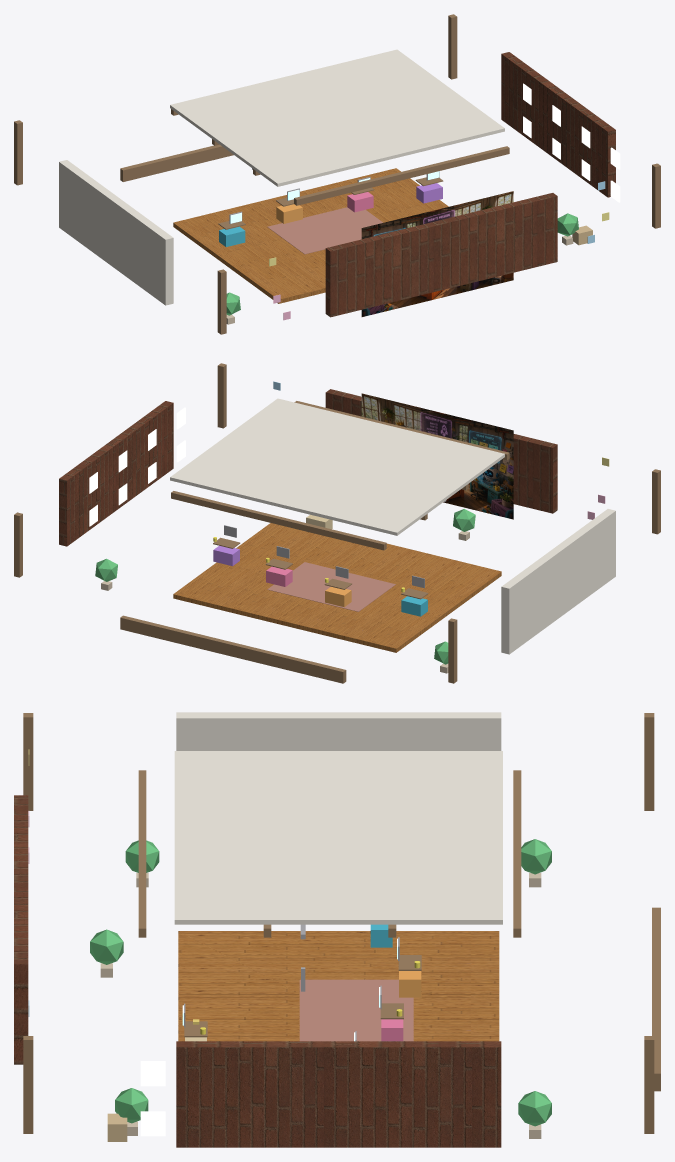
File: loft_room.glb
The picture shows the model from 3 angles, top to bottom: view 1: azimuth 30°, elevation 25°; view 2: azimuth 150°, elevation 25°; view 3: azimuth 270°, elevation 25°; orthographic projection. The views are drawn at different scales.
Parts seen in each view (by area): view 1: Ceil, WallBack, Floor, WallLeft, WallRight, ConceptMural, Rug, Beam0, WallFrontLow, Post0, Post3, Post1 (+1 smaller); view 2: Ceil, Floor, WallLeft, WallRight, ConceptMural, WallBack, WallFrontLow, Rug, Beam3, Beam0, Post1, Post2 (+2 smaller); view 3: Ceil, WallRight, Floor, WallLeft, Rug, WallBack, WallFrontLow, Beam0, Beam3, Post1, Post2, Post3 (+8 smaller).
Boxes of the visible parts, <box> form: Ceil: <box>170,49,504,186</box>; WallBack: <box>325,193,557,317</box>; Floor: <box>173,168,448,303</box>; WallLeft: <box>59,160,173,305</box>; WallRight: <box>501,52,615,197</box>; ConceptMural: <box>361,191,513,316</box>; Rug: <box>267,207,382,254</box>; Beam0: <box>294,146,509,205</box>; WallFrontLow: <box>120,144,233,181</box>; Post0: <box>217,269,226,334</box>; Post3: <box>448,14,457,79</box>; Post1: <box>652,163,660,228</box>; Ceil: <box>170,398,504,535</box>; Floor: <box>173,523,501,652</box>; WallLeft: <box>501,509,615,654</box>; WallRight: <box>59,401,173,546</box>; ConceptMural: <box>361,393,513,519</box>; WallBack: <box>325,389,557,513</box>; WallFrontLow: <box>120,615,346,683</box>; Rug: <box>267,562,395,611</box>; Beam3: <box>171,491,386,550</box>; Beam0: <box>294,401,509,460</box>; Post1: <box>217,363,226,428</box>; Post2: <box>448,618,457,683</box>; Ceil: <box>174,751,502,924</box>; WallRight: <box>176,1041,501,1147</box>; Floor: <box>178,931,499,1041</box>; WallLeft: <box>176,712,501,750</box>; Rug: <box>299,979,413,1041</box>; WallBack: <box>14,795,28,1064</box>; WallFrontLow: <box>652,907,660,1091</box>; Beam0: <box>138,770,146,937</box>; Beam3: <box>513,770,521,937</box>; Post1: <box>23,1036,33,1133</box>; Post2: <box>644,713,654,810</box>; Post3: <box>644,1036,654,1133</box>.
Bounding box in the file's own units: 22.2 × 5.73 × 18.12.
26 materials, 3 textured.
